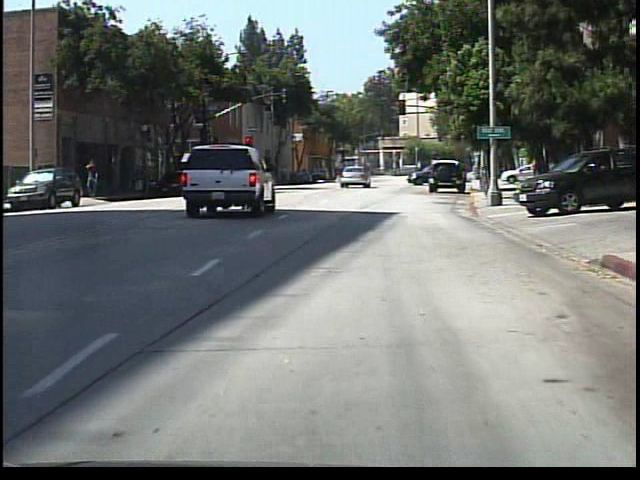person: (84, 158, 105, 200), (484, 154, 499, 182), (332, 162, 343, 186)
